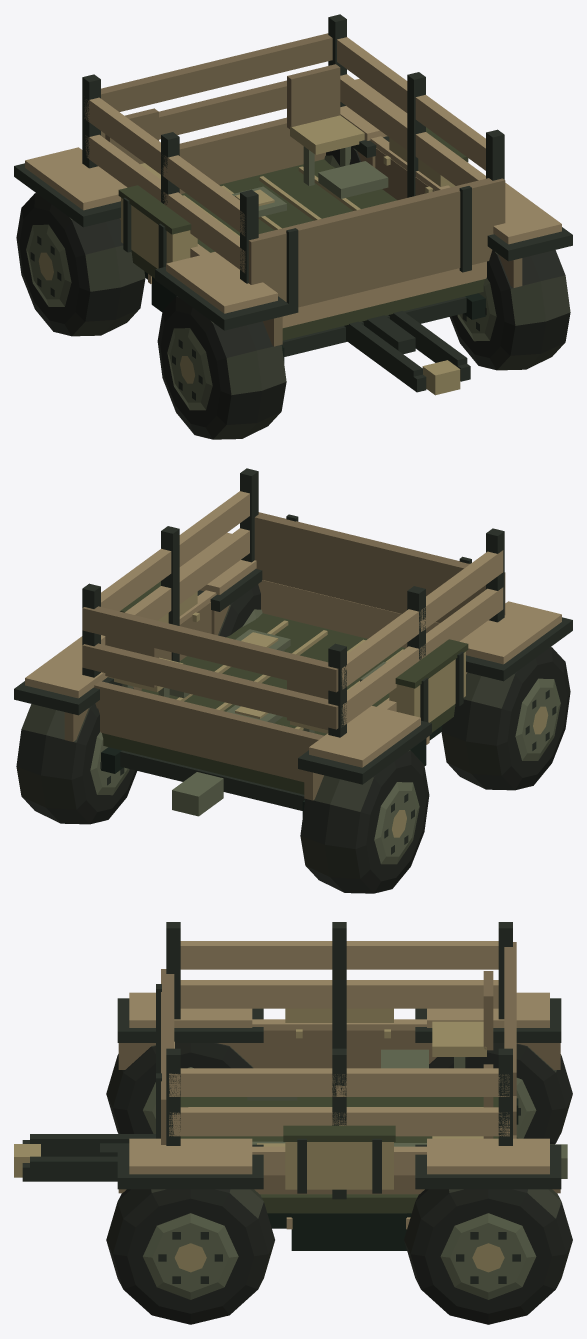
Rendered from military_wagon.glb.
3 renders of one model, top to bottom at view 1: azimuth 30°, elevation 25°; view 2: azimuth 150°, elevation 25°; view 3: azimuth 270°, elevation 25°, orthographic. The views are drawn at different scales.
Parts seen in each view (by area): view 1: WagonDetails_cargo, WagonDeck, AllTerrainTire, AllTerrainTire.002, AllTerrainTire.001, DrawbarFrame; view 2: WagonDetails_cargo, WagonDeck, AllTerrainTire.002, AllTerrainTire, AllTerrainTire.003, AllTerrainTire.001; view 3: WagonDetails_cargo, WagonDeck, AllTerrainTire.001, AllTerrainTire.003, AllTerrainTire.002, AllTerrainTire, DrawbarFrame.
Boxes of the visible parts, box(x1,y1,x2,y2) form: WagonDetails_cargo: box(82, 14, 505, 314); WagonDeck: box(14, 64, 572, 376); AllTerrainTire: box(157, 296, 286, 439); AllTerrainTire.002: box(16, 193, 145, 336); AllTerrainTire.001: box(450, 250, 570, 370); DrawbarFrame: box(346, 316, 470, 395); WagonDetails_cargo: box(82, 468, 505, 757); WagonDeck: box(14, 532, 572, 816); AllTerrainTire.002: box(300, 750, 429, 893); AllTerrainTire: box(441, 647, 570, 790); AllTerrainTire.003: box(16, 684, 136, 824); AllTerrainTire.001: box(218, 584, 262, 637); WagonDetails_cargo: box(156, 922, 516, 1199); WagonDeck: box(30, 971, 567, 1250); AllTerrainTire.001: box(106, 1189, 274, 1324); AllTerrainTire.003: box(404, 1189, 572, 1324); AllTerrainTire.002: box(429, 1043, 572, 1144); AllTerrainTire: box(106, 1043, 253, 1133); DrawbarFrame: box(14, 1140, 117, 1181).
Bounding box in the file's own units: 4.48 × 2.93 × 5.82.
2 materials, 2 textured.
